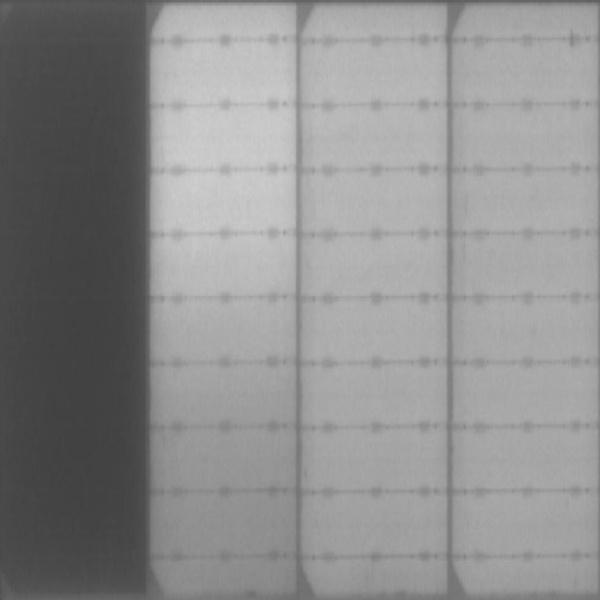no_electricity: (1, 3, 149, 600)
